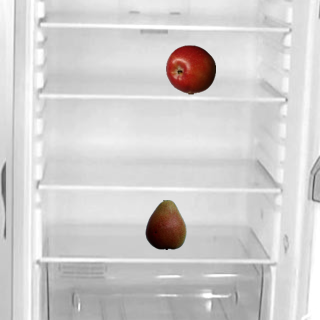Apple Braeburn: (165, 44, 215, 94)
Pear Forelle: (140, 199, 190, 249)
